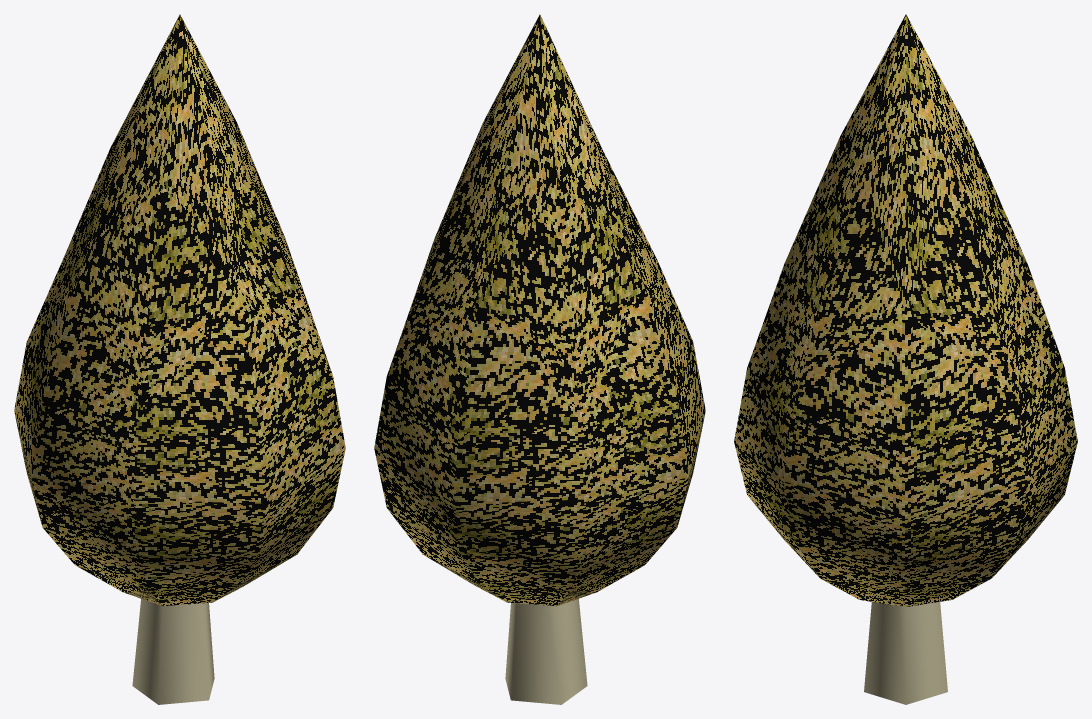
Rendered from tree5.glb.
The picture shows the model from 3 angles, left to right: view 1: azimuth 30°, elevation 25°; view 2: azimuth 150°, elevation 25°; view 3: azimuth 270°, elevation 25°; orthographic projection.
Parts seen in each view (by area): view 1: trees; view 2: trees; view 3: trees.
Part boxes in pixels (x1,y1,x2,y2): trees: (14, 14, 345, 704); trees: (374, 14, 705, 704); trees: (734, 14, 1077, 704).
Size of the model in its own units: 2.87 by 6.21 by 2.87.
2 materials, 1 textured.
